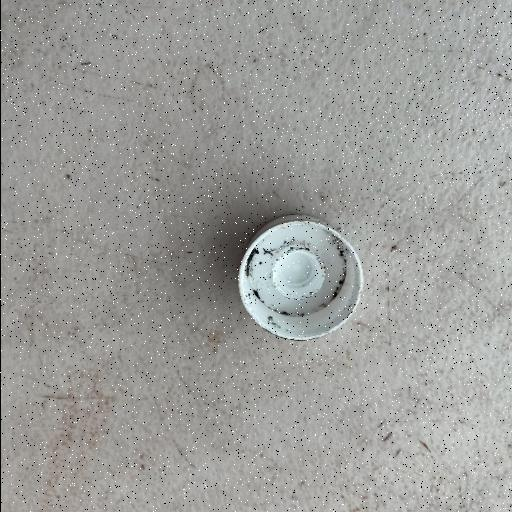Plastic: (234, 212, 366, 343)
